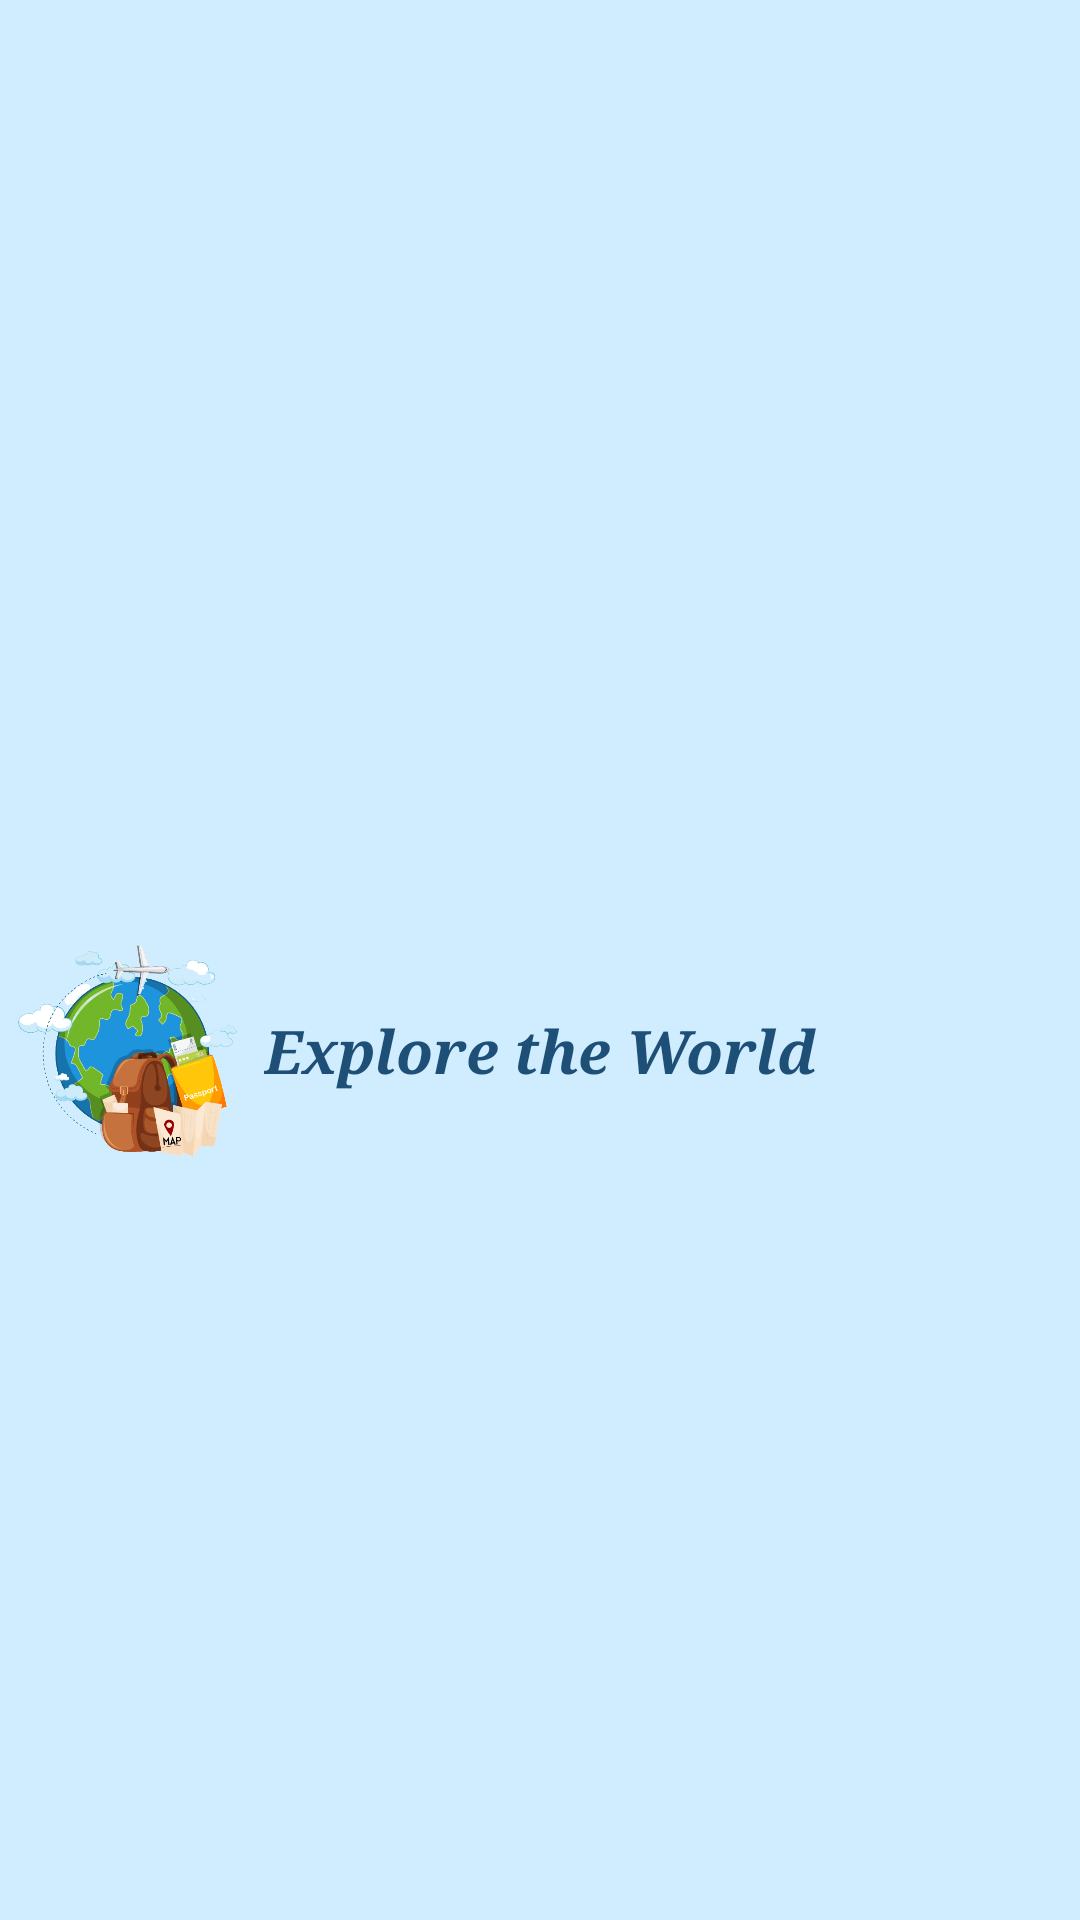

Icon click points for this 1080x1920 phone screenshot, format [x,y]:
photo: [127,1051]
